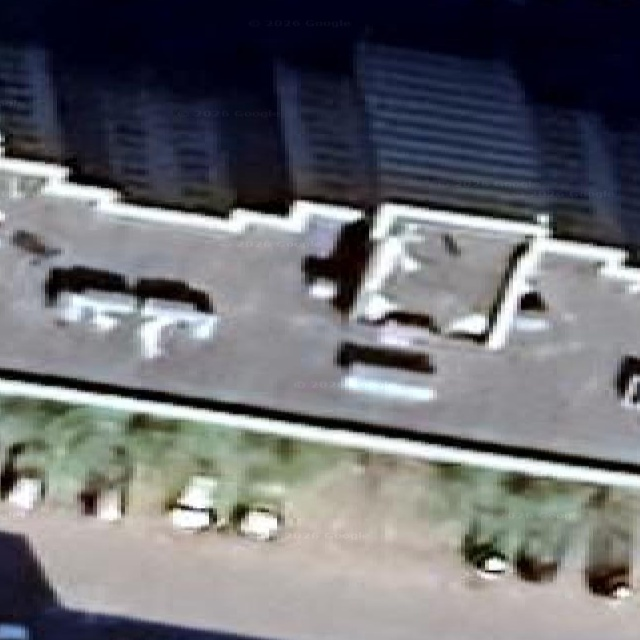car: (172, 475, 220, 531)
